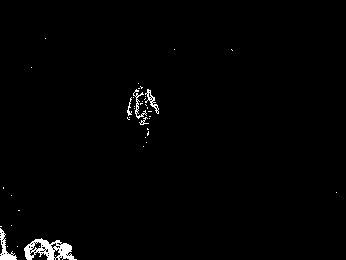person: (124, 82, 161, 144)
